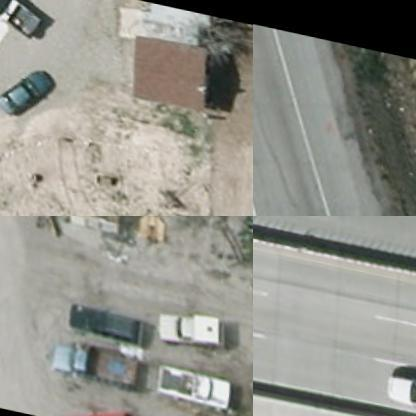car: (0, 54, 58, 125), (61, 298, 142, 344), (379, 366, 415, 410)
pickup: (150, 356, 232, 407), (150, 304, 219, 349), (0, 0, 50, 40)
truck: (44, 334, 132, 398), (59, 396, 191, 415)
